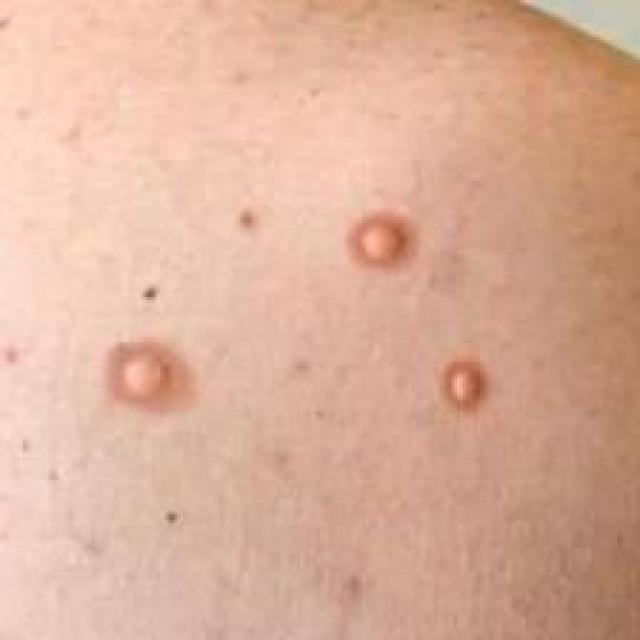monkeypox: (62, 108, 594, 579)
